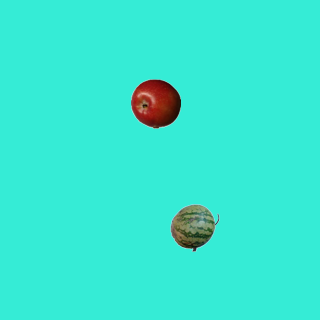Apple Braeburn: (130, 78, 180, 128)
Watermelon: (169, 202, 219, 252)
